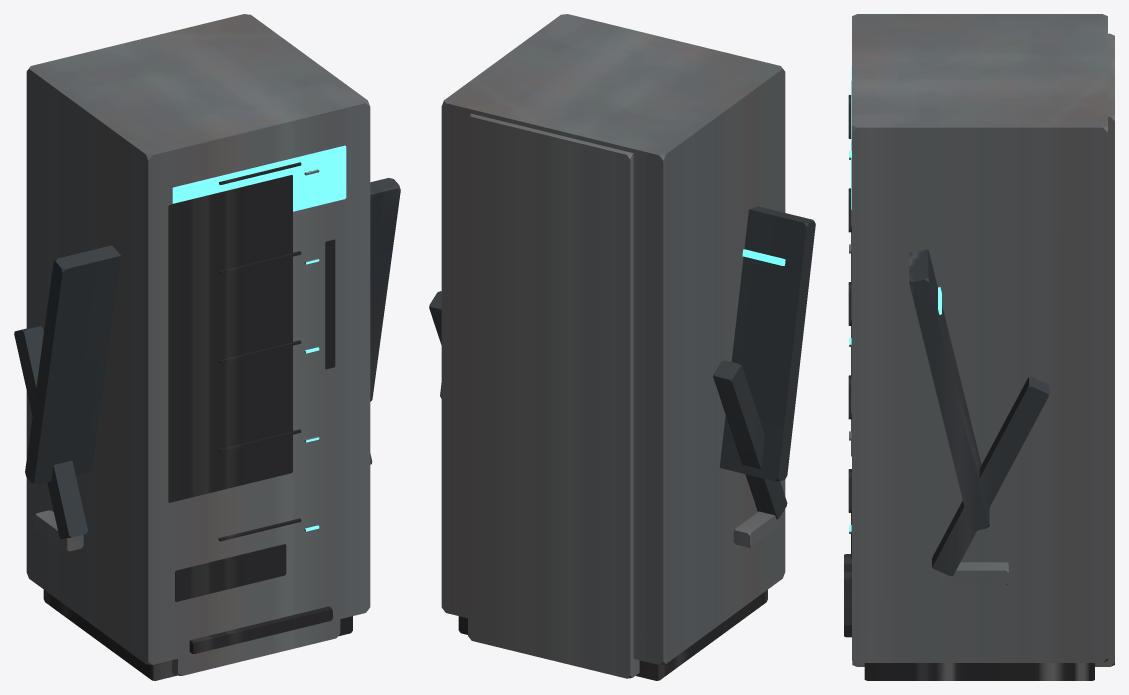
File: propsTech.glb
3 renders of one model, left to right at view 1: azimuth 30°, elevation 25°; view 2: azimuth 150°, elevation 25°; view 3: azimuth 270°, elevation 25°, orthographic. The views are drawn at different scales.
Parts seen in each view (by area): view 1: chunk_1, vendingMachine_lod1_v0, vendingMachine_lod0_v0, chunk_3, combineBarrier_lod0_v0, vendingMachine_lod0_v0_emissive, chunk_0 (×2), serverRack_lod0_v0, chunk_4; view 2: serverRack_lod0_v0, vendingMachine_lod0_v0, vendingMachine_lod1_v0, chunk_1, combineBarrier_lod0_v0, chunk_0 (×2), serverRack_lod1_v0; view 3: vendingMachine_lod0_v0, vendingMachine_lod1_v0, combineBarrier_lod0_v0, chunk_1, chunk_0 (×2), serverRack_lod0_v0, serverRack_lod1_v0.
Boxes of the visible parts, x1=… form: chunk_1: x1=29, y1=14, x2=370, y2=664; vendingMachine_lod1_v0: x1=26, y1=14, x2=366, y2=680; vendingMachine_lod0_v0: x1=26, y1=14, x2=369, y2=664; chunk_3: x1=168, y1=175, x2=292, y2=502; combineBarrier_lod0_v0: x1=14, y1=178, x2=400, y2=551; vendingMachine_lod0_v0_emissive: x1=172, y1=145, x2=346, y2=211; chunk_0 (×2): x1=43, y1=529, x2=340, y2=680; serverRack_lod0_v0: x1=172, y1=162, x2=332, y2=675; chunk_4: x1=175, y1=544, x2=286, y2=601; serverRack_lod0_v0: x1=468, y1=113, x2=639, y2=678; vendingMachine_lod0_v0: x1=444, y1=14, x2=785, y2=660; vendingMachine_lod1_v0: x1=442, y1=14, x2=785, y2=680; chunk_1: x1=441, y1=15, x2=781, y2=664; combineBarrier_lod0_v0: x1=429, y1=206, x2=815, y2=547; chunk_0 (×2): x1=478, y1=118, x2=767, y2=680; serverRack_lod1_v0: x1=470, y1=114, x2=639, y2=677; vendingMachine_lod0_v0: x1=852, y1=14, x2=1107, y2=662; vendingMachine_lod1_v0: x1=852, y1=14, x2=1107, y2=680; combineBarrier_lod0_v0: x1=909, y1=249, x2=1049, y2=585; chunk_1: x1=851, y1=14, x2=1107, y2=660; chunk_0 (×2): x1=849, y1=34, x2=1114, y2=680; serverRack_lod0_v0: x1=844, y1=33, x2=1114, y2=666; serverRack_lod1_v0: x1=852, y1=34, x2=1114, y2=666.
Size of what is drawn, in the model's own units: 1.25 by 1.88 by 0.825.
3 materials, 1 textured.
